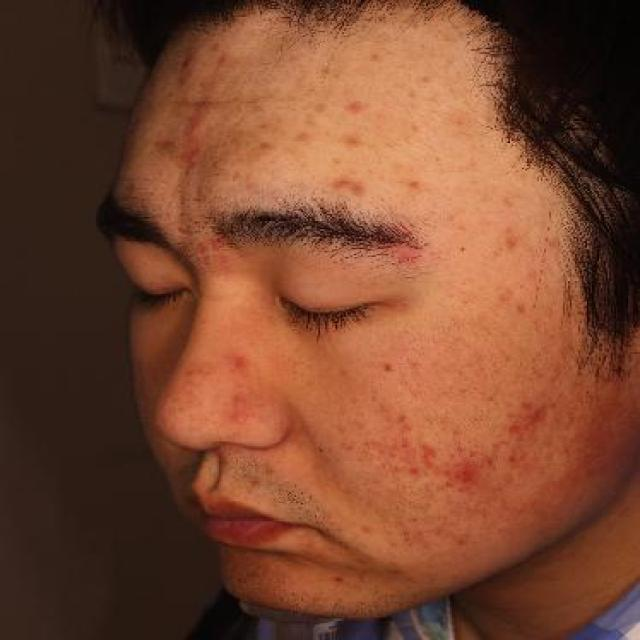dark spot: (491, 390, 560, 472), (378, 408, 443, 488), (322, 160, 374, 211), (446, 451, 489, 502), (488, 228, 540, 268), (228, 344, 265, 382), (334, 90, 376, 118), (399, 172, 438, 200)
